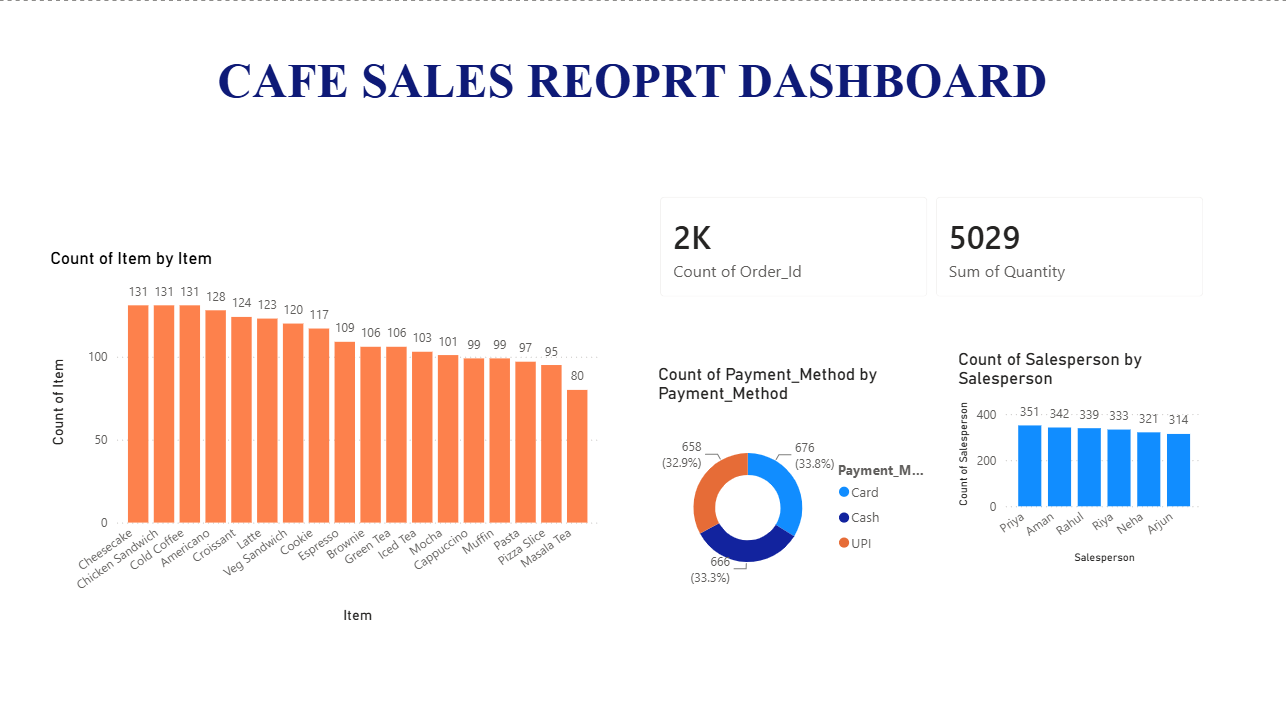

This screenshot's page, from the dashboard's own definition file:
{"tool":"powerbi","page":{"name":"Page 1","canvas":[1280,720],"ordinal":0},"visuals":[{"type":"columnChart","fields":{"Y":["CountNonNull(Cafe Sales.Item)"],"Category":["Cafe Sales.Item"]},"box":[48,244.3,553,377.4],"z":0},{"type":"cardVisual","title":"T","fields":{"Data":["CountNonNull(Cafe Sales.Order_Id)","Sum(Cafe Sales.Quantity)"]},"box":[639.5,177,572.2,133.1],"z":1000},{"type":"donutChart","fields":{"Category":["Cafe Sales.Payment_Method"],"Y":["CountNonNull(Cafe Sales.Payment_Method)"]},"box":[649.1,359.5,277.2,247],"z":2000},{"type":"columnChart","fields":{"Category":["Cafe Sales.Salesperson"],"Y":["CountNonNull(Cafe Sales.Salesperson)"]},"box":[948.2,345.8,252.5,218.2],"z":3000},{"type":"textbox","box":[48,46.7,1163.6,120.8],"z":4000}]}

Visuals, with their boxes in screenshot pixels (x1, y1, x2, y2), scaled from the page's 1280x720 canvas onto the 1286x725 screenshot:
columnChart - CountNonNull(Cafe Sales.Item) x Cafe Sales.Item: (48,246,604,626)
"T" cardVisual: (642,178,1217,312)
donutChart - Cafe Sales.Payment_Method x CountNonNull(Cafe Sales.Payment_Method): (652,362,931,611)
columnChart - Cafe Sales.Salesperson x CountNonNull(Cafe Sales.Salesperson): (953,348,1206,568)
textbox: (48,47,1217,169)
